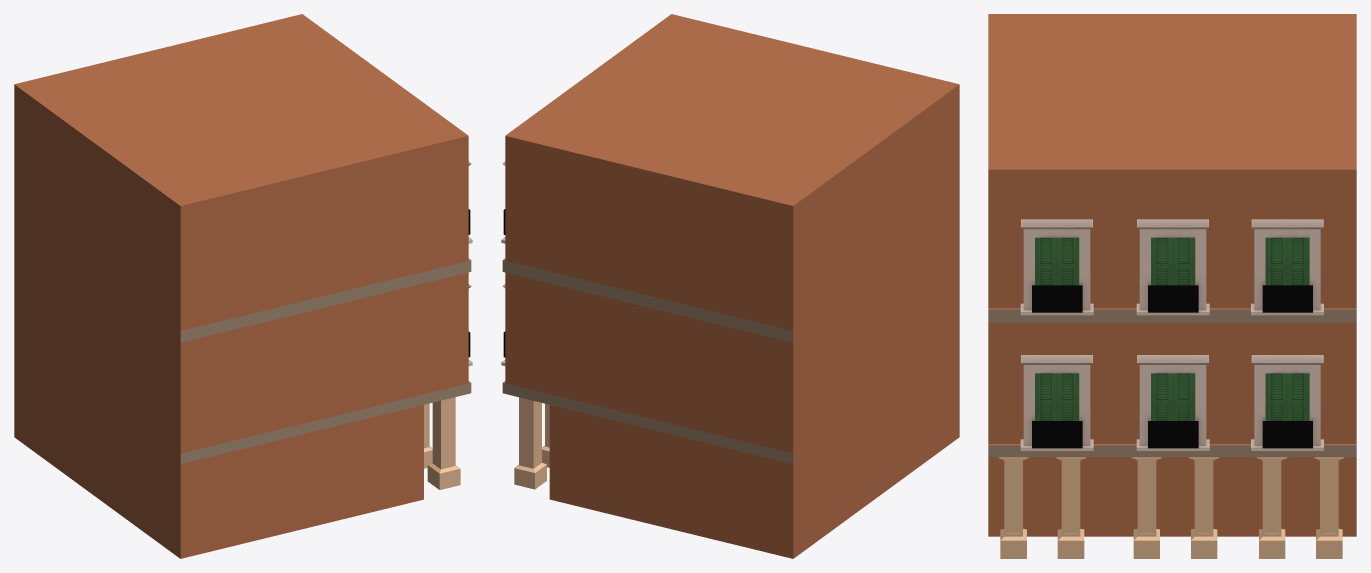
Rendered from barcelona_building.glb.
3 renders of one model, left to right at view 1: azimuth 30°, elevation 25°; view 2: azimuth 150°, elevation 25°; view 3: azimuth 270°, elevation 25°, orthographic. The views are drawn at different scales.
Visible parts, largest first — view 1: Cube.001, pillar; view 2: Cube.001, pillar.005; view 3: Cube.001, window.003, window.004, window, window.001, window.005, window.002, pillar.001, pillar.002, pillar.003, pillar.004, pillar (+1 smaller).
Part boxes in pixels (x1,y1,x2,y2): Cube.001: (14, 14, 471, 558); pillar: (427, 397, 460, 489); Cube.001: (502, 14, 959, 558); pillar.005: (514, 397, 546, 489); Cube.001: (988, 14, 1356, 536); window.003: (1136, 219, 1209, 315); window.004: (1020, 219, 1093, 315); window: (1136, 355, 1209, 450); window.001: (1020, 355, 1093, 450); window.005: (1251, 219, 1323, 315); window.002: (1251, 355, 1323, 450); pillar.001: (1054, 457, 1087, 558); pillar.002: (1130, 457, 1162, 558); pillar.003: (1188, 457, 1220, 558); pillar.004: (1256, 457, 1288, 558); pillar: (997, 457, 1029, 558).
Bounding box in the file's own units: 42.37 × 46.17 × 39.45.
4 materials, 1 textured.
